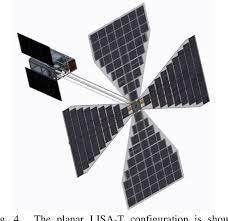body: (29, 47, 78, 81)
solar: (87, 0, 153, 104), (121, 110, 185, 212), (139, 33, 211, 111), (61, 103, 134, 179), (17, 31, 57, 70), (23, 66, 65, 103)
